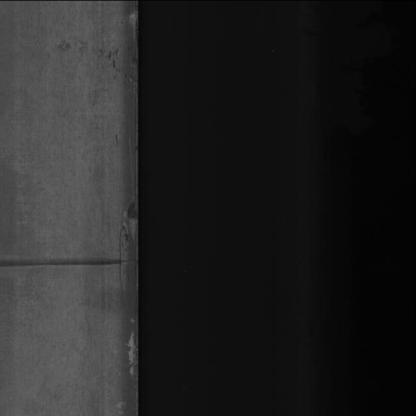crease: (0, 239, 130, 280)
